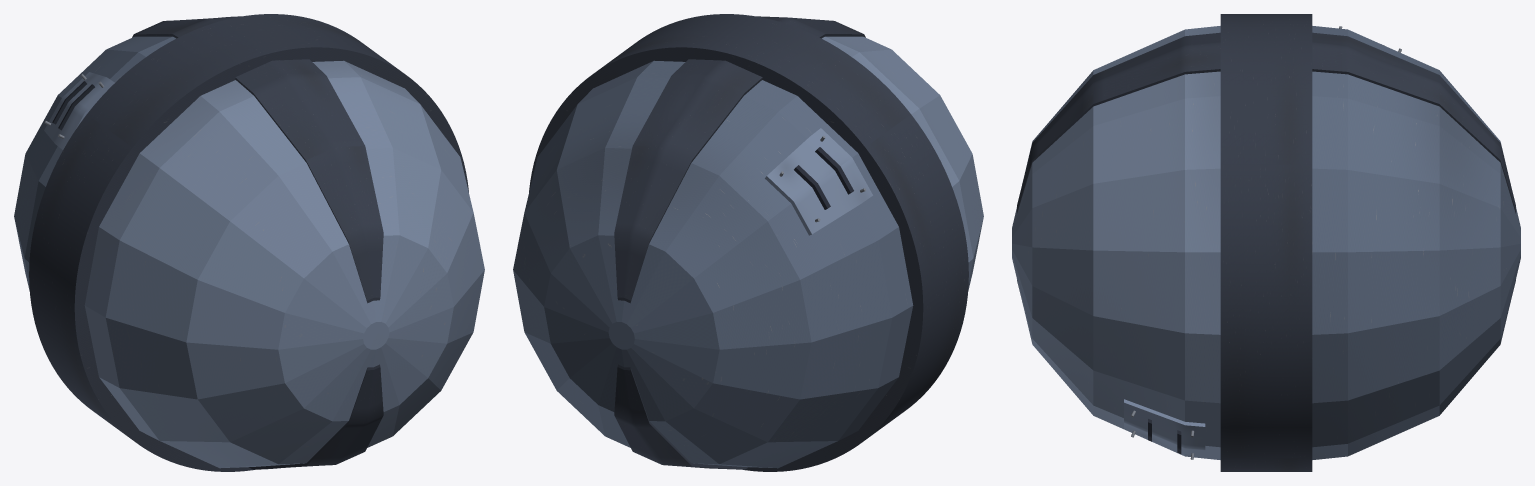
The picture shows the model from 3 angles, left to right: view 1: azimuth 30°, elevation 25°; view 2: azimuth 150°, elevation 25°; view 3: azimuth 270°, elevation 25°; orthographic projection.
Parts seen in each view (by area): view 1: Artemian Nova forward metal shell, Artemian Nova blue grey transverse belt, Artemian Nova blue grey longitudinal strap 1, Artemian Nova rear metal shell, Artemian Nova blue grey longitudinal strap 0, Artemian Nova service cover 1, Artemian Nova blue grey longitudinal strap 3; view 2: Artemian Nova rear metal shell, Artemian Nova blue grey transverse belt, Artemian Nova blue grey longitudinal strap 3, Artemian Nova forward metal shell, Artemian Nova service cover 1, Artemian Nova blue grey longitudinal strap 2, Artemian Nova blue grey longitudinal strap 1; view 3: Artemian Nova rear metal shell, Artemian Nova forward metal shell, Artemian Nova blue grey transverse belt, Artemian Nova blue grey longitudinal strap 1, Artemian Nova blue grey longitudinal strap 3, Artemian Nova service cover 0.
Part boxes in pixels (bbox=[...]): Artemian Nova forward metal shell: bbox=[84, 60, 484, 468]; Artemian Nova blue grey transverse belt: bbox=[29, 14, 468, 471]; Artemian Nova blue grey longitudinal strap 1: bbox=[235, 59, 383, 303]; Artemian Nova rear metal shell: bbox=[14, 36, 175, 290]; Artemian Nova blue grey longitudinal strap 0: bbox=[249, 364, 383, 469]; Artemian Nova service cover 1: bbox=[44, 72, 114, 149]; Artemian Nova blue grey longitudinal strap 3: bbox=[132, 16, 241, 38]; Artemian Nova rear metal shell: bbox=[513, 60, 913, 468]; Artemian Nova blue grey transverse belt: bbox=[529, 14, 968, 471]; Artemian Nova blue grey longitudinal strap 3: bbox=[614, 59, 762, 303]; Artemian Nova forward metal shell: bbox=[822, 36, 983, 290]; Artemian Nova service cover 1: bbox=[765, 128, 872, 235]; Artemian Nova blue grey longitudinal strap 2: bbox=[614, 364, 748, 469]; Artemian Nova blue grey longitudinal strap 1: bbox=[756, 16, 865, 38]; Artemian Nova rear metal shell: bbox=[1312, 26, 1520, 459]; Artemian Nova forward metal shell: bbox=[1012, 26, 1220, 459]; Artemian Nova blue grey transverse belt: bbox=[1220, 14, 1312, 471]; Artemian Nova blue grey longitudinal strap 1: bbox=[1017, 32, 1220, 213]; Artemian Nova blue grey longitudinal strap 3: bbox=[1312, 32, 1515, 213]; Artemian Nova service cover 0: bbox=[1124, 399, 1205, 456].
Size of the model in its own units: 0.9 by 0.9 by 1.
5 materials, 3 textured.
